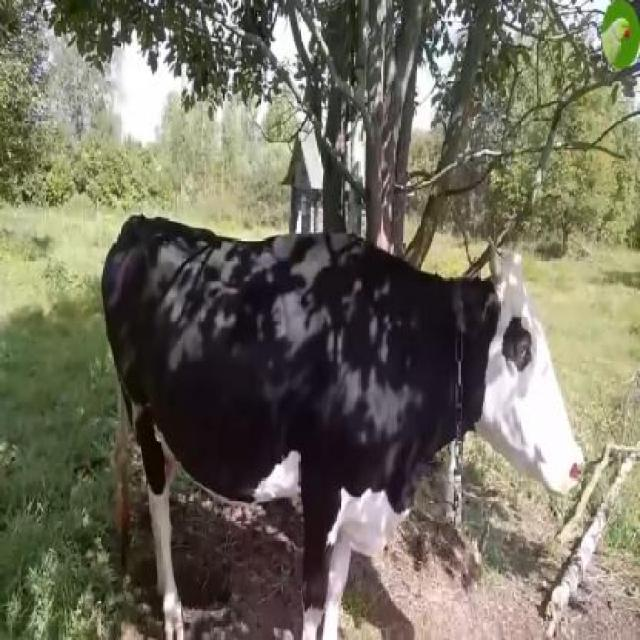Cow: (102, 214, 588, 638)
